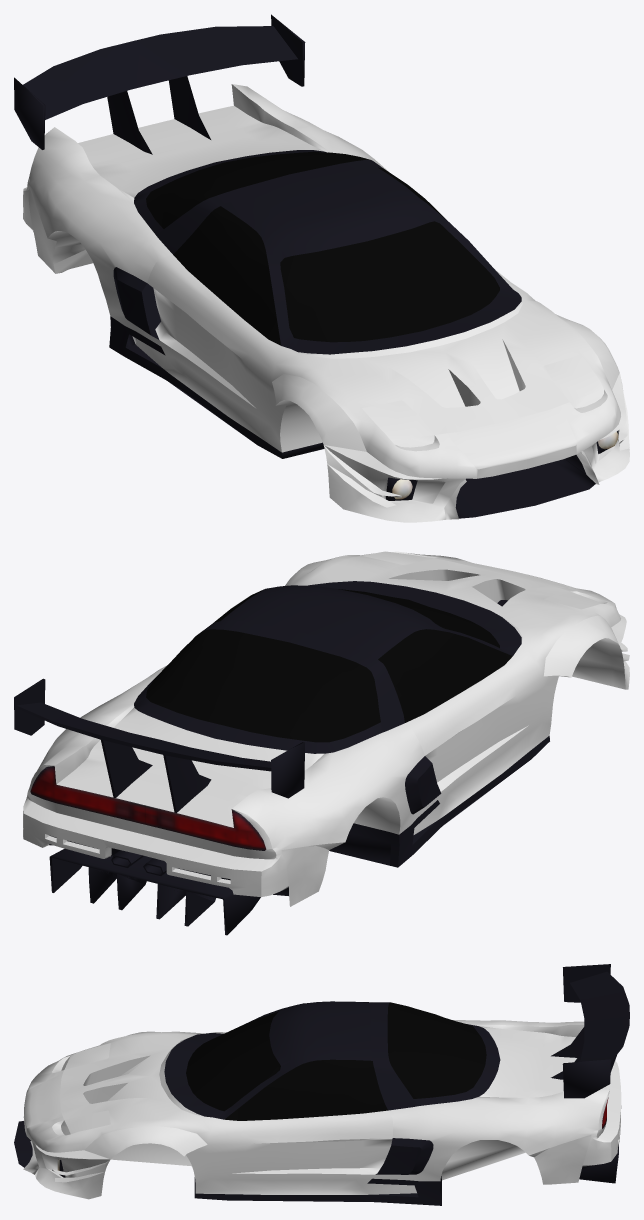
The model's file is JapanSuperCar.fbx.
3 views of the same model, one above another, from view 1: azimuth 30°, elevation 25°; view 2: azimuth 150°, elevation 25°; view 3: azimuth 270°, elevation 25° (orthographic). The views are drawn at different scales.
Visible parts, largest first — view 1: Plane; view 2: Plane; view 3: Plane.
Part boxes in pixels (bbox=[...]): Plane: bbox=[14, 14, 629, 522]; Plane: bbox=[14, 551, 629, 935]; Plane: bbox=[14, 964, 629, 1205].
Size of the model in its own units: 131 by 77.35 by 307.
3 materials, 1 textured.
